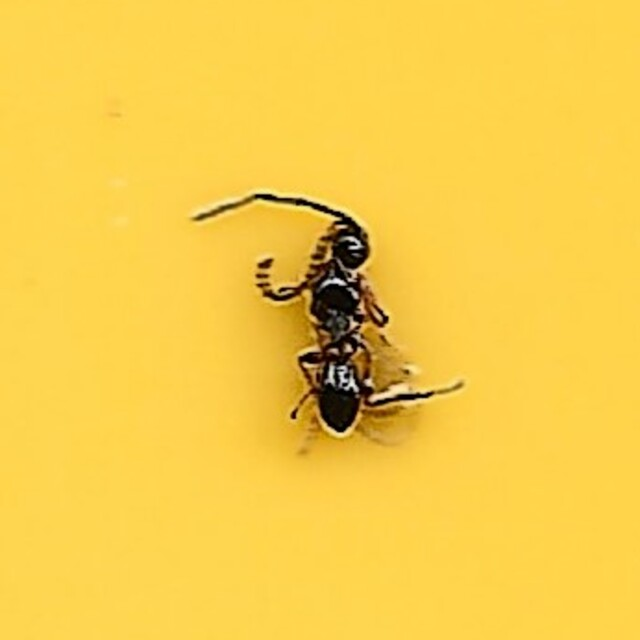Hymenoptera: (185, 190, 455, 450)
